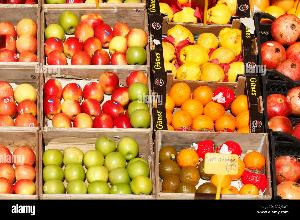apple: (40, 132, 153, 198), (44, 65, 150, 127), (42, 6, 150, 64), (154, 24, 250, 84), (0, 130, 40, 198), (0, 4, 42, 68), (0, 68, 42, 128), (159, 0, 245, 22)
orange: (160, 83, 252, 133)
pomegranate: (255, 13, 300, 84), (260, 85, 300, 142), (268, 140, 300, 200)
